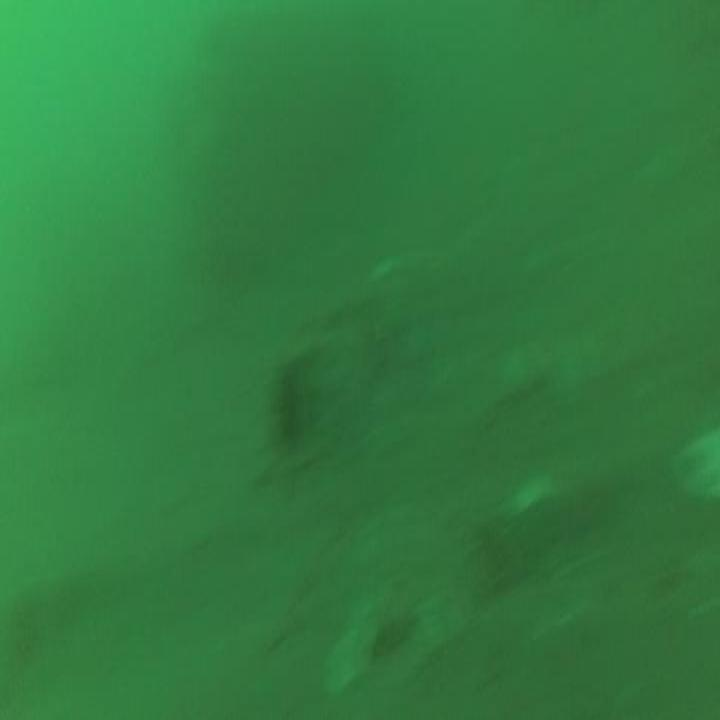echinus: (277, 350, 312, 452)
